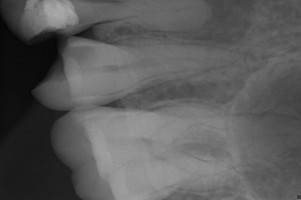Furcation Involvement: (189, 0, 256, 43)
